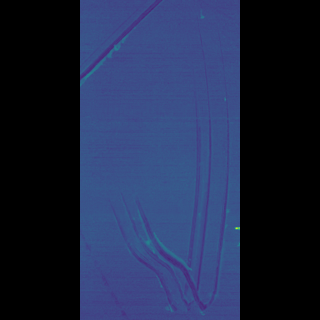Loch: (132, 10, 196, 313), (119, 1, 163, 94), (111, 225, 146, 318)
